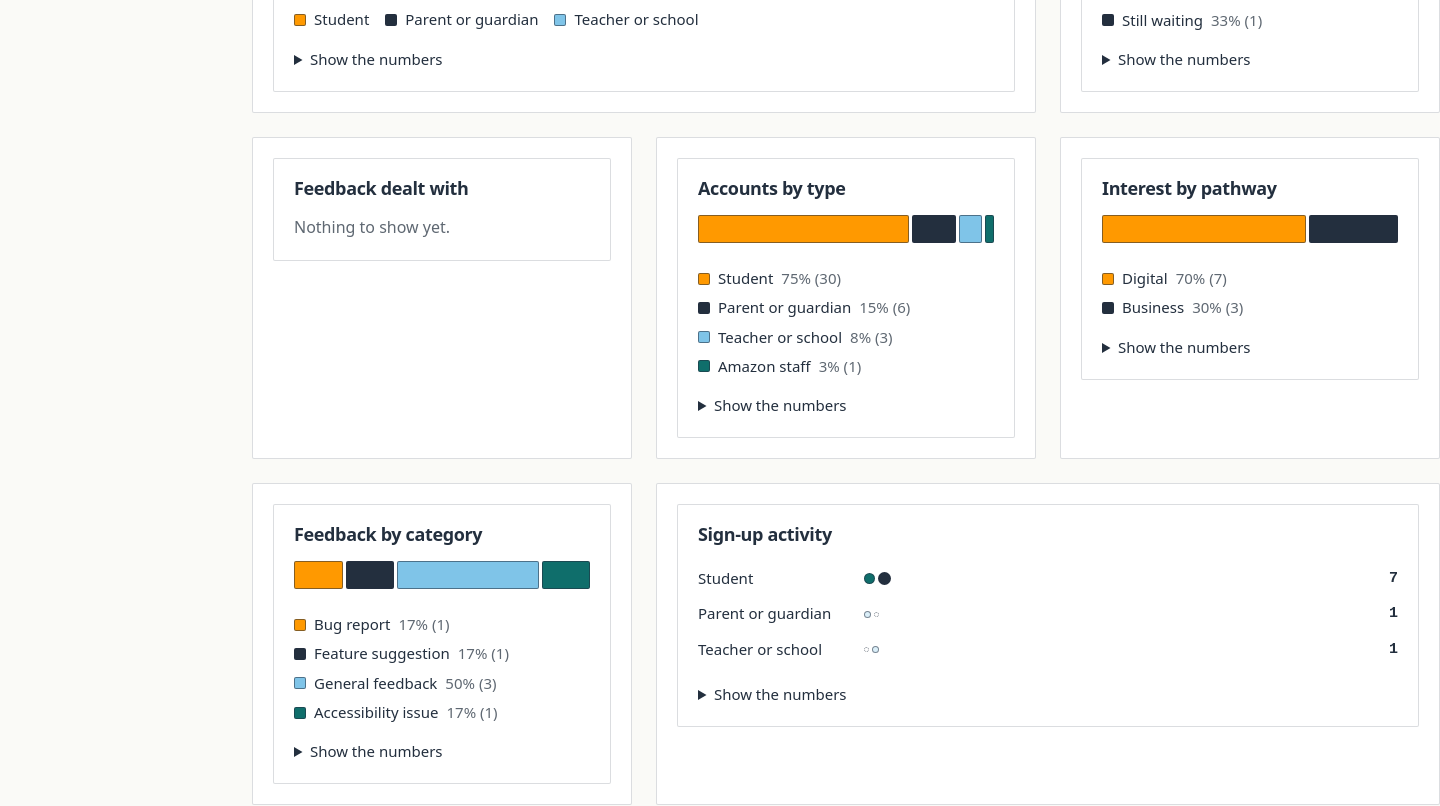
Scenario: Admin Portal: Overview › gives every chart the same numbers as text
The width and height of the screenshot is (1440, 806).
(page scrolled)
Click the heading "Show the numbers" below "15".
click(780, 405)  # box [714, 395, 847, 415]
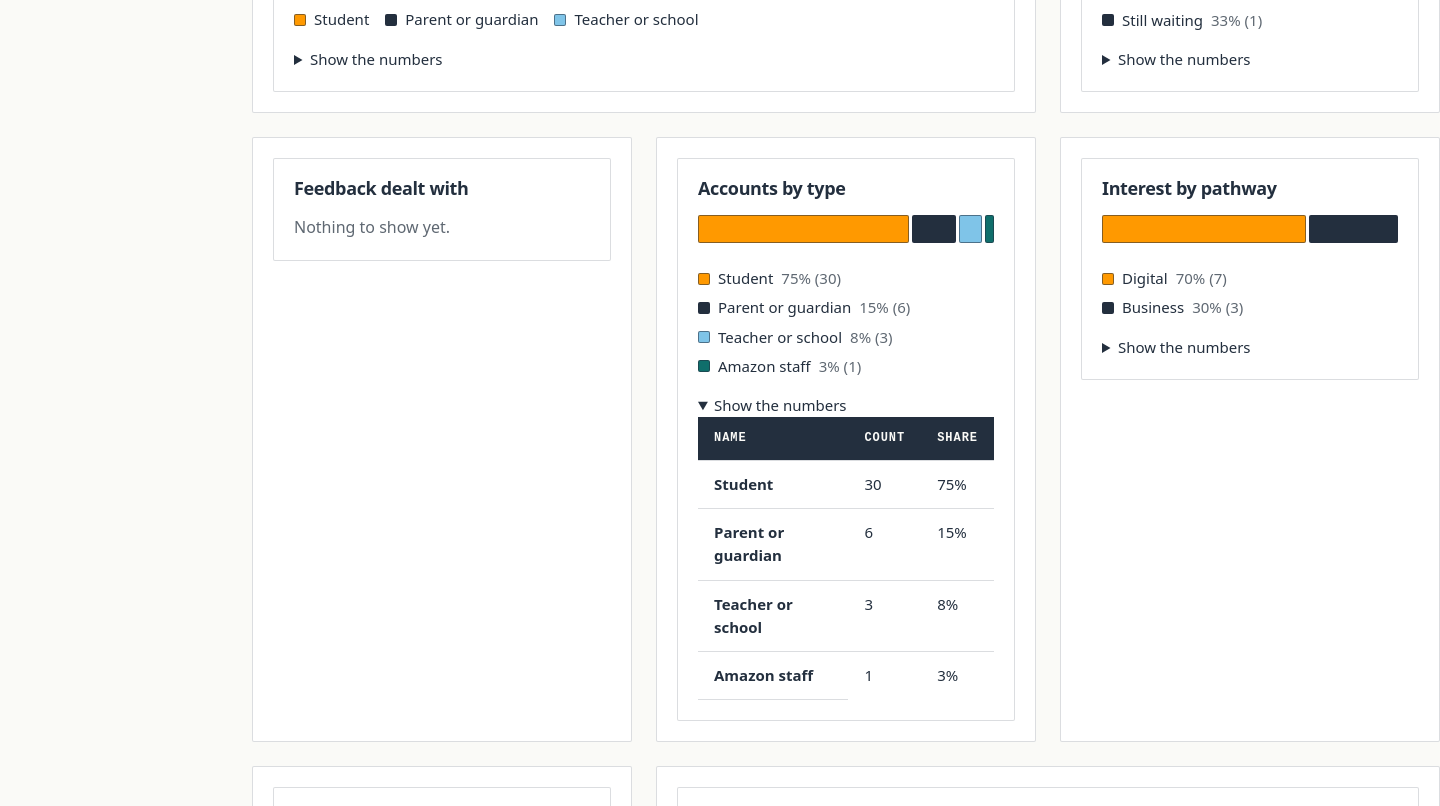
Check: the column heading "Student" is shown, box [698, 461, 848, 509]
Check: the text "75%" is shown, box [921, 461, 994, 509]
Note: The bars carry the same guarantee, with counts rather than shares.
Click the heading "Show the numbers" below "Business".
click(1184, 347)  # box [1118, 337, 1251, 357]
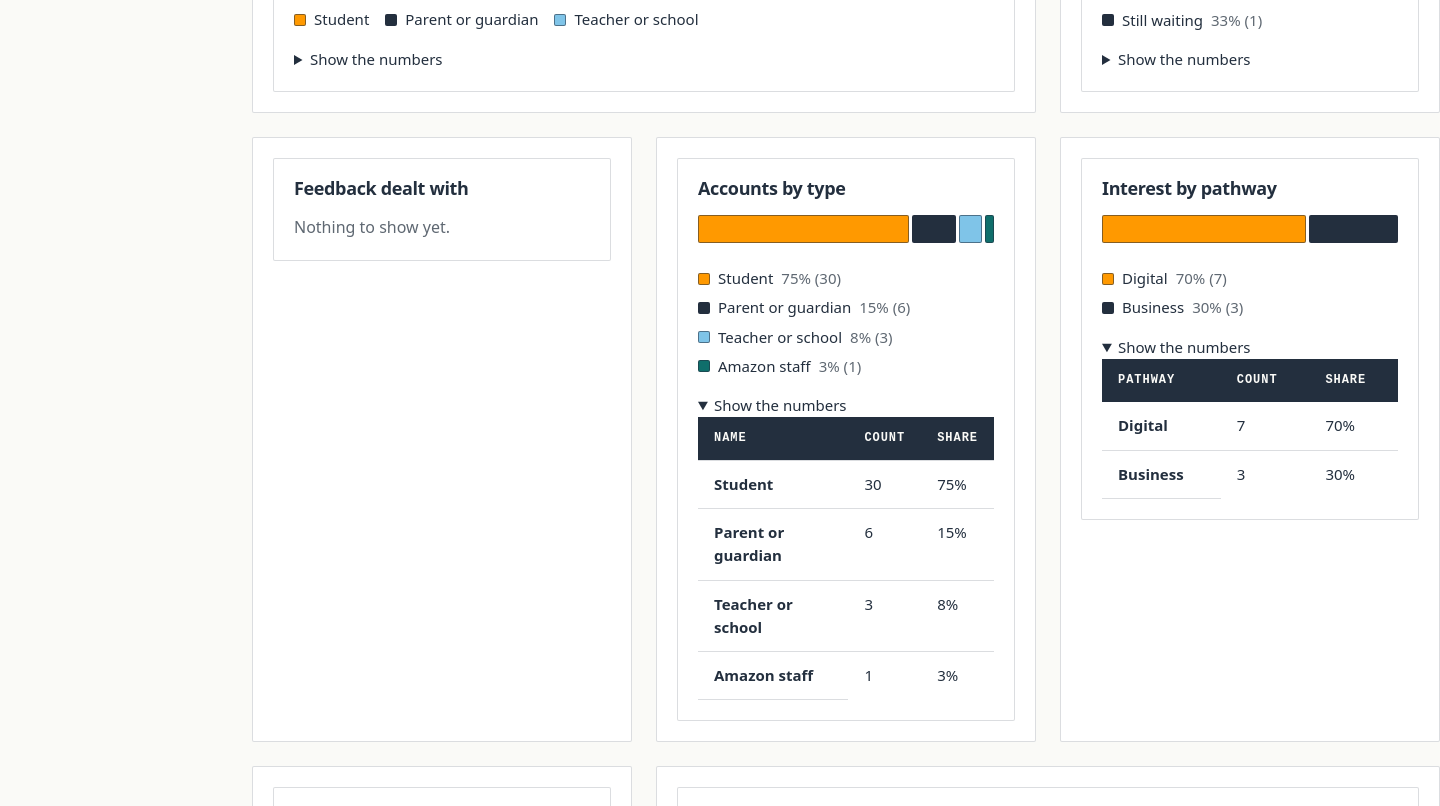
Check: the column heading "Digital" is shown, box [1102, 402, 1221, 450]
Check: the text "7" is shown, box [1221, 402, 1309, 450]
